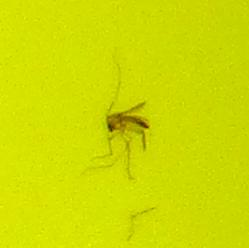Nematocera: (100, 100, 149, 148)
